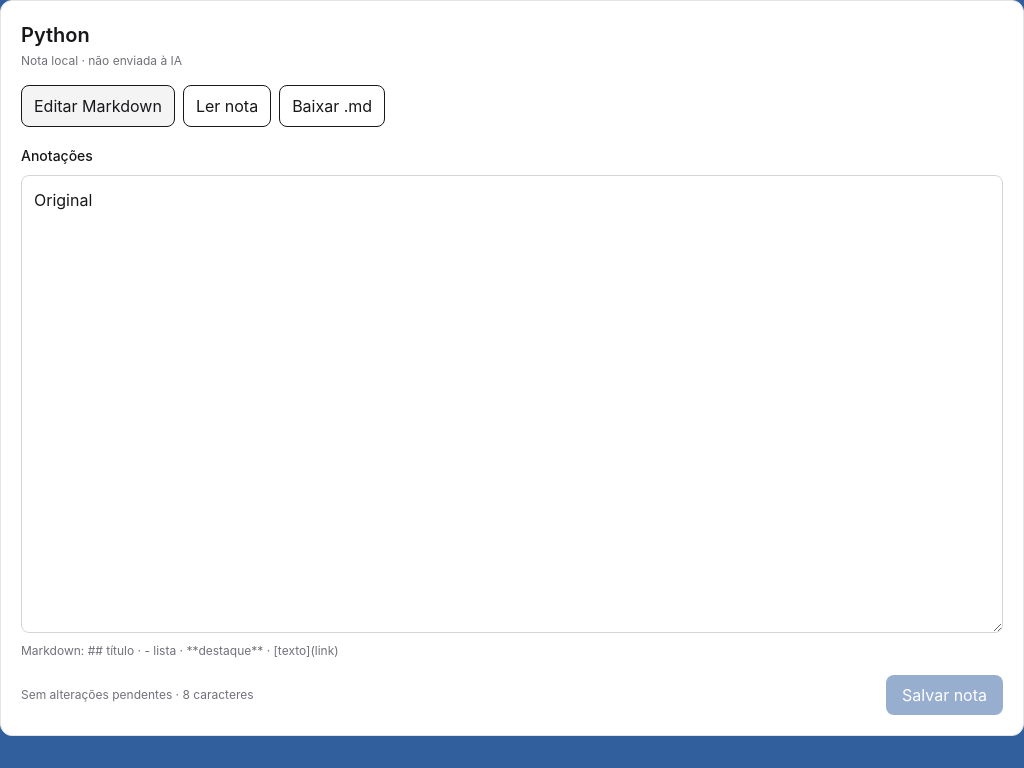
Scenario: saves notes with the expected version
Type " novo" into the text box labelled "Anotações".
click(512, 404); type(" novo")  # box [21,175,1003,633]
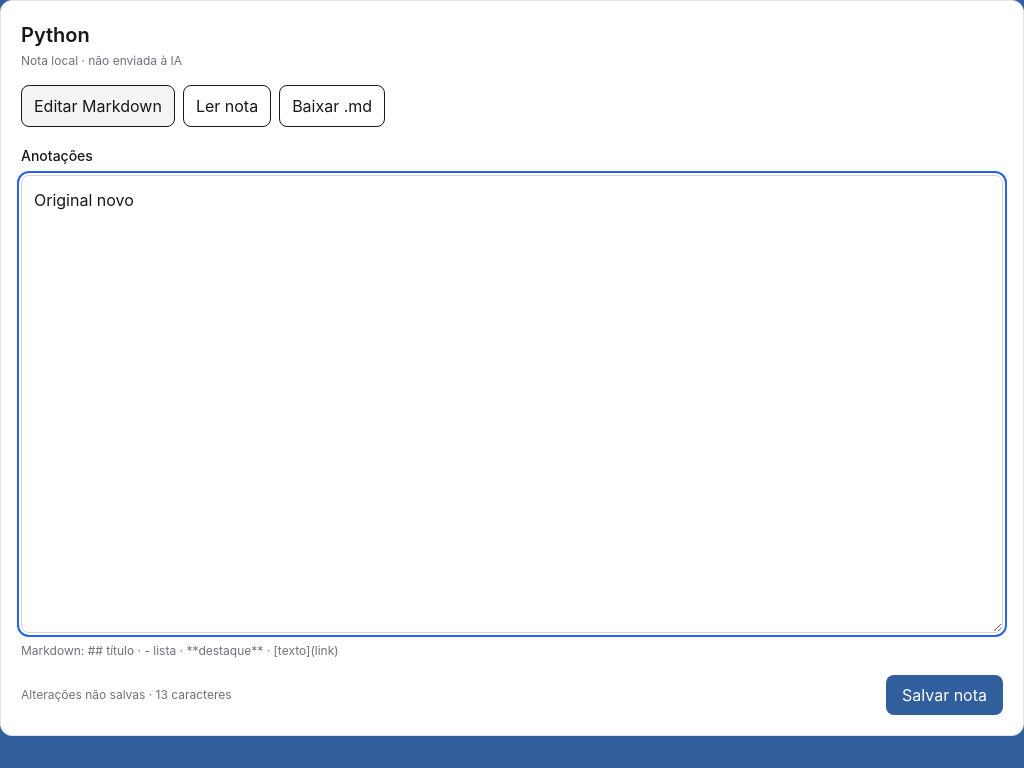
Click the button "Salvar nota".
click(944, 695)  # box [886,675,1003,715]
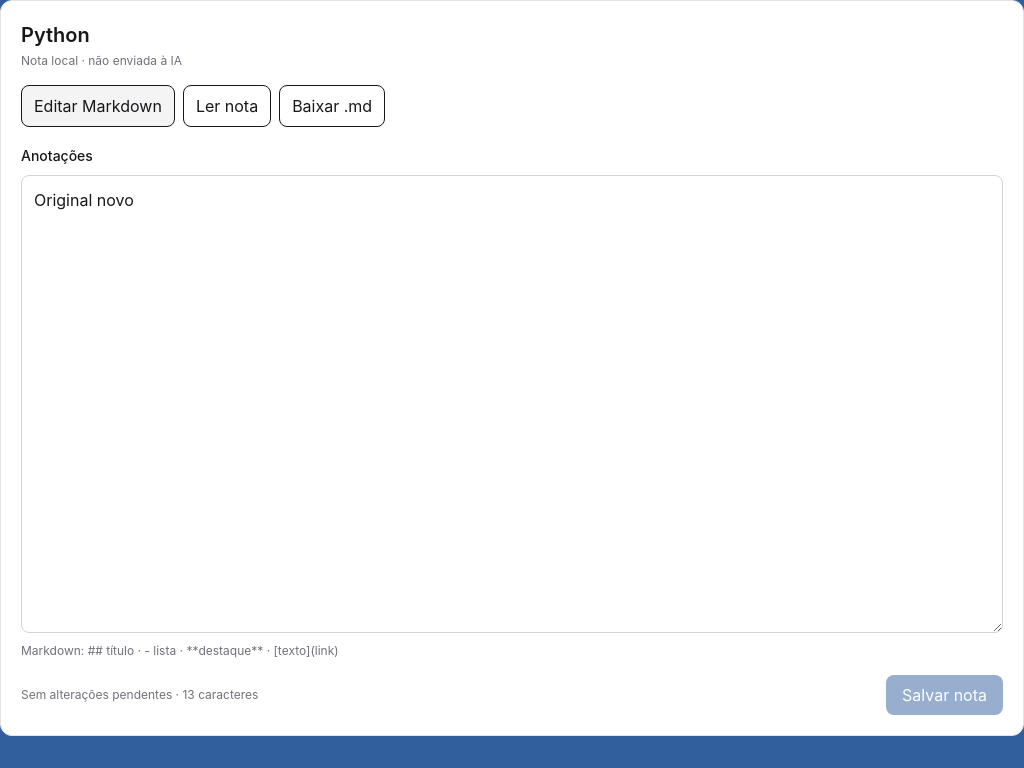
Result: the text "Sem alterações pendentes · 13 caracteres" is shown at [21,687,258,703]
